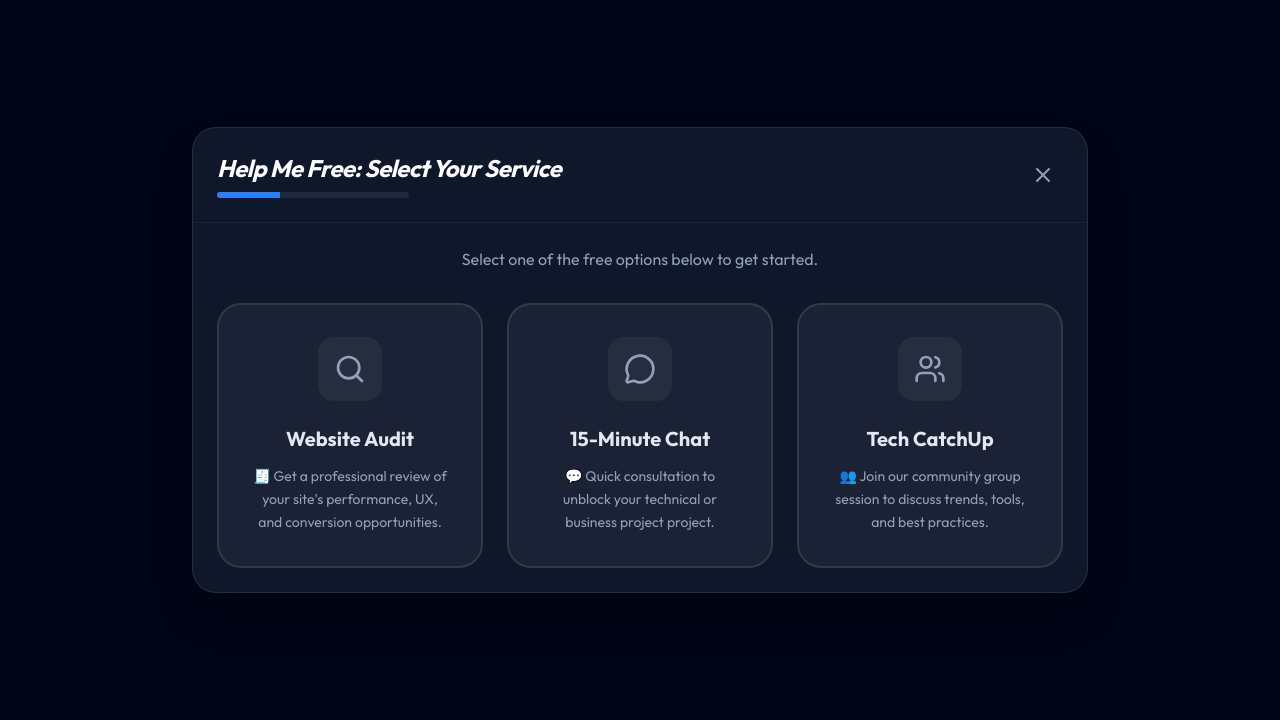
Test: HelpMeFreeModal Component › transitions through the funnel correctly
# Select Service
Click the heading "15-Minute Chat".
click(640, 439)  # box 570,425 -> 710,453
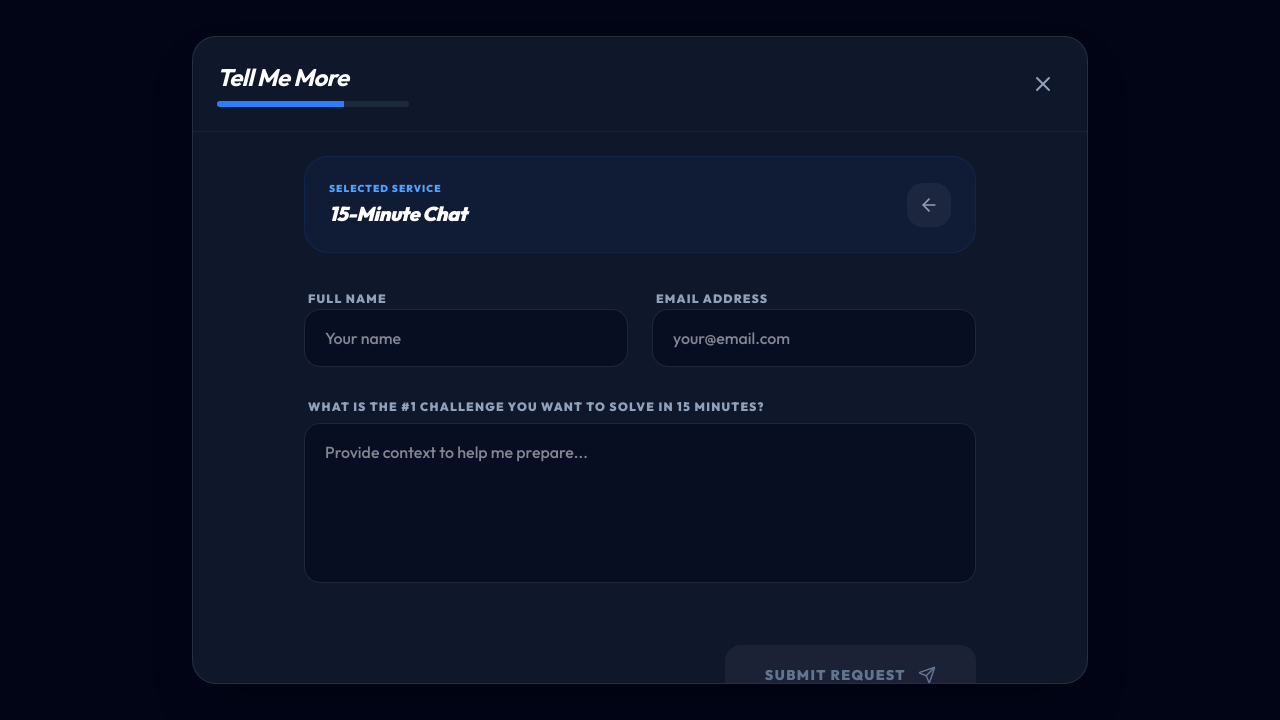
Expected: the heading "Tell Me More" is shown, 217,62 -> 348,92
Expected: the text "What is the #1 challenge you want to solve in 15 minutes?" is shown, 308,399 -> 765,415
Type "Samuel Test" into the field with placeholder "Your name".
click(466, 338); type("Samuel Test")  # box 304,309 -> 628,367
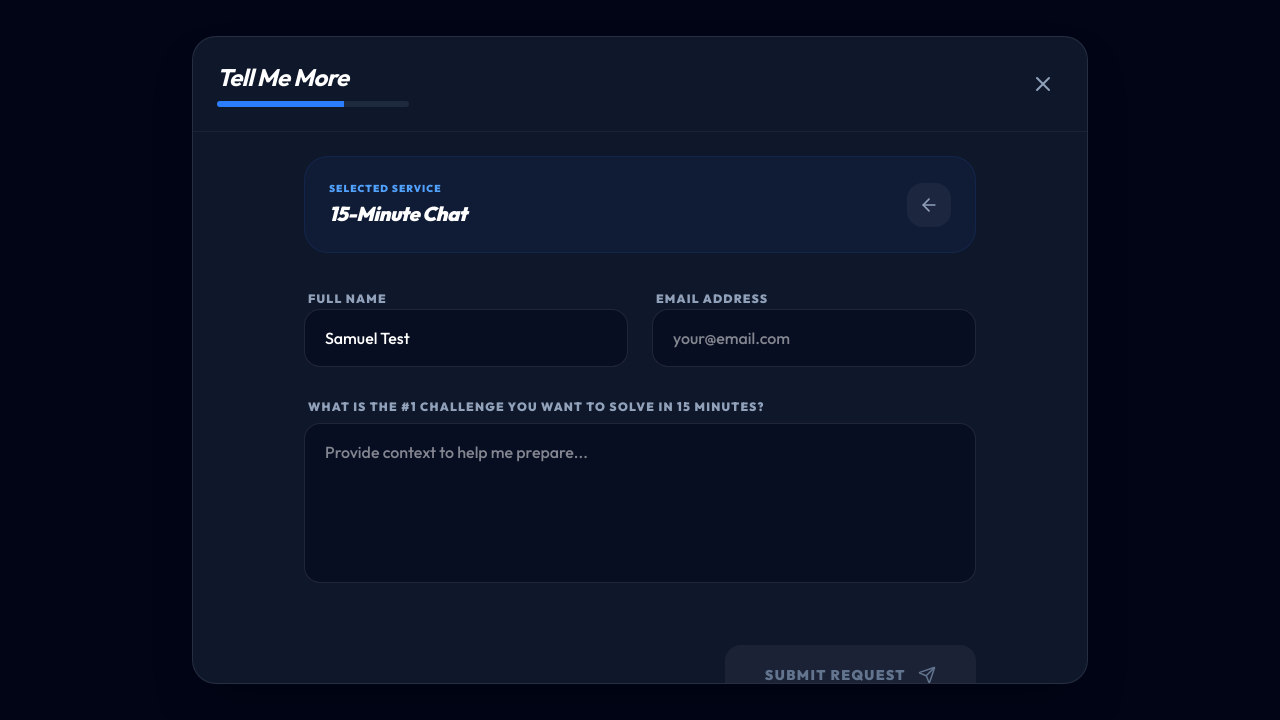
Type "test@example.com" into the field with placeholder "your@email.com".
click(814, 338); type("test@example.com")  # box 652,309 -> 976,367
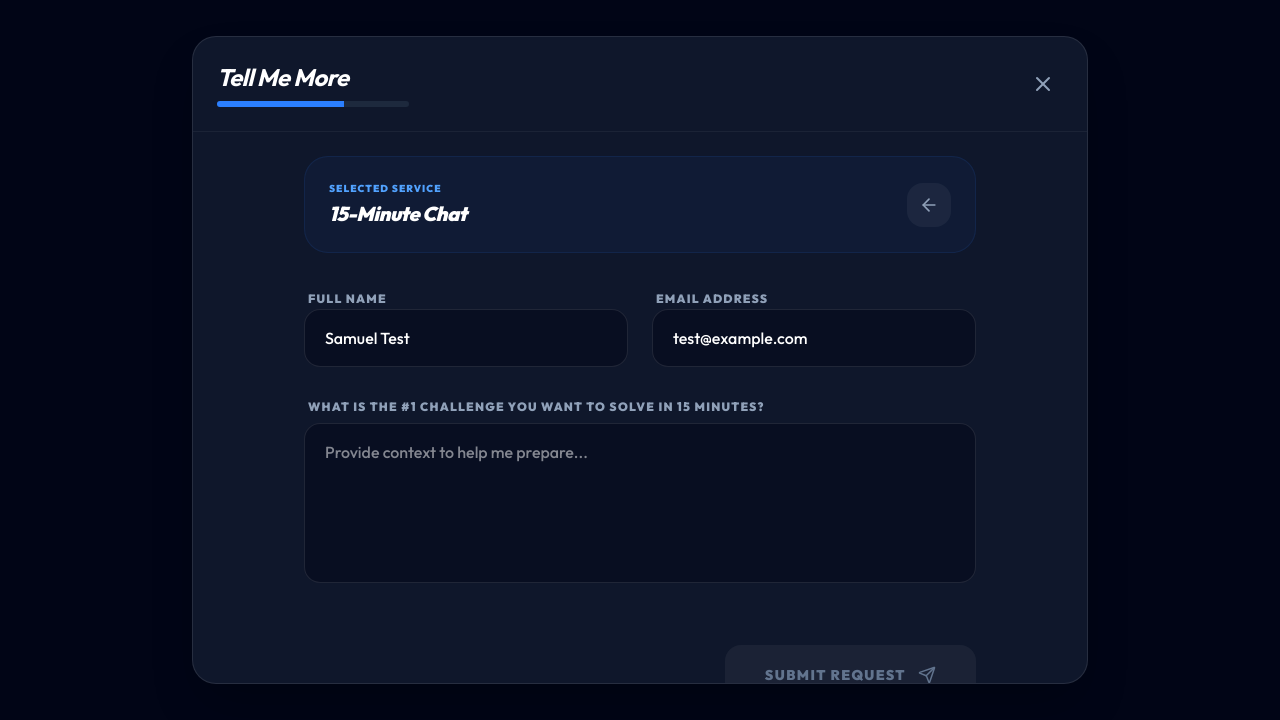
Type "I need help with React performance." into the text box with placeholder "Provide context to help me prepare...".
click(640, 503); type("I need help with React performance.")  # box 304,423 -> 976,583
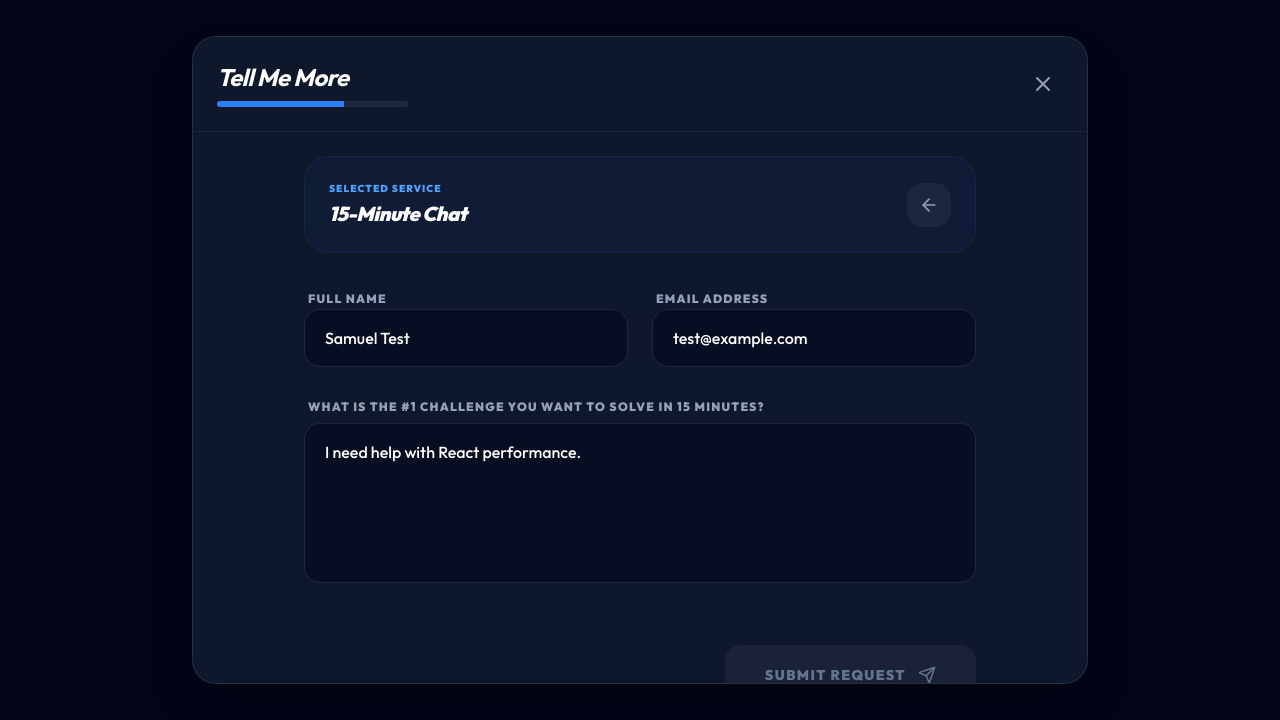
Click the button "Submit Request".
click(850, 675)  # box 725,645 -> 976,705
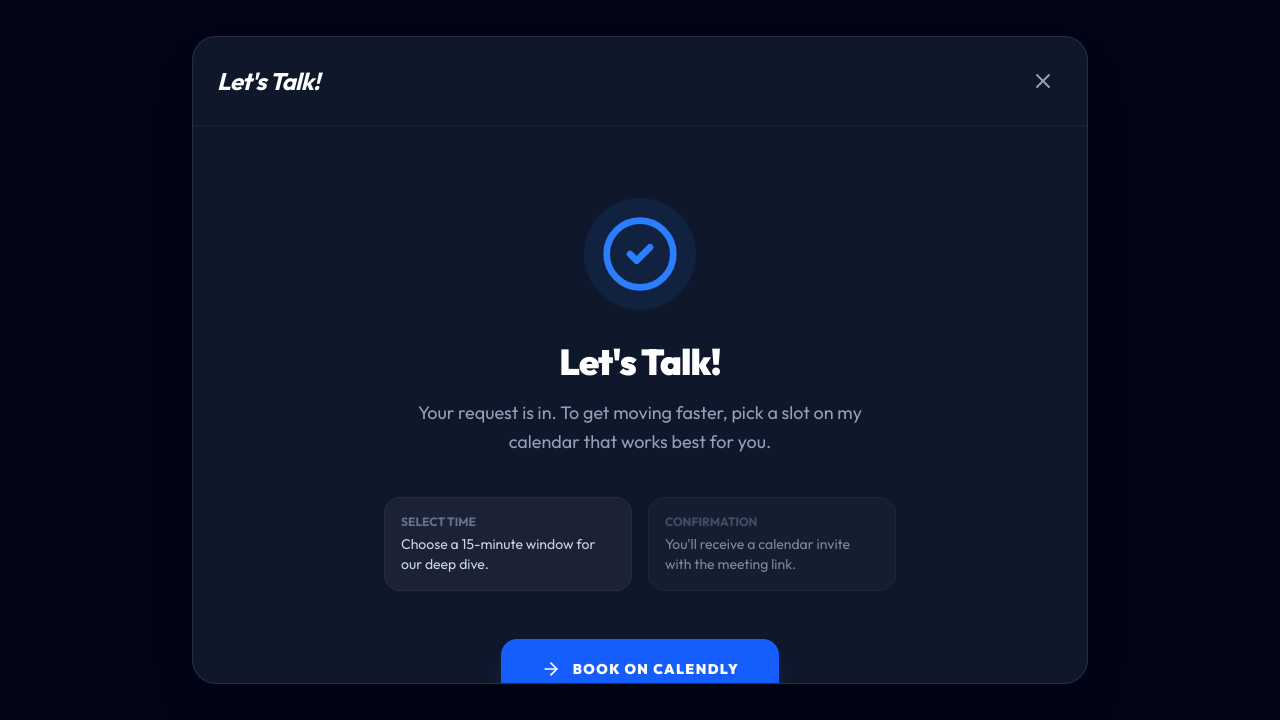
Expected: the 1st heading "Let's Talk!" is shown, 217,65 -> 320,97
